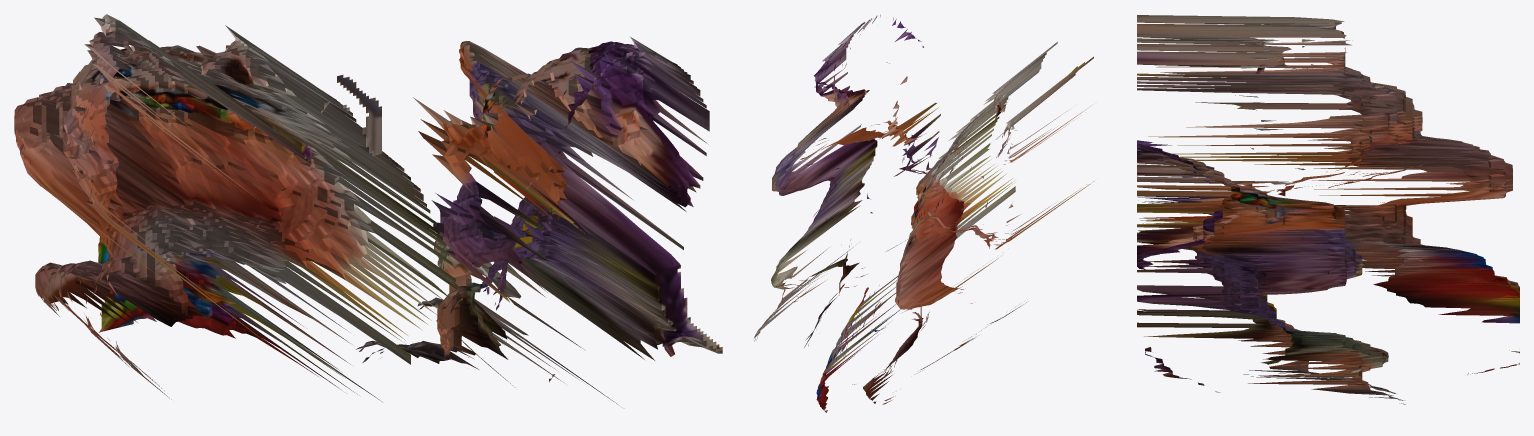
File: frame_00381.glb
3 views of the same model, side by side, from view 1: azimuth 30°, elevation 25°; view 2: azimuth 150°, elevation 25°; view 3: azimuth 270°, elevation 25° (orthographic). The views are drawn at different scales.
Parts seen in each view (by area): view 1: geometry_0; view 2: geometry_0; view 3: geometry_0.
Boxes of the visible parts, x1=… form: geometry_0: x1=14, y1=14, x2=722, y2=404; geometry_0: x1=754, y1=14, x2=1094, y2=412; geometry_0: x1=1137, y1=15, x2=1519, y2=404.
Bounding box in the file's own units: 0.1476 × 0.1445 × 0.16.
1 material, 1 textured.
